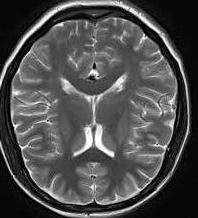Normal_Brain: (10, 1, 198, 206)
